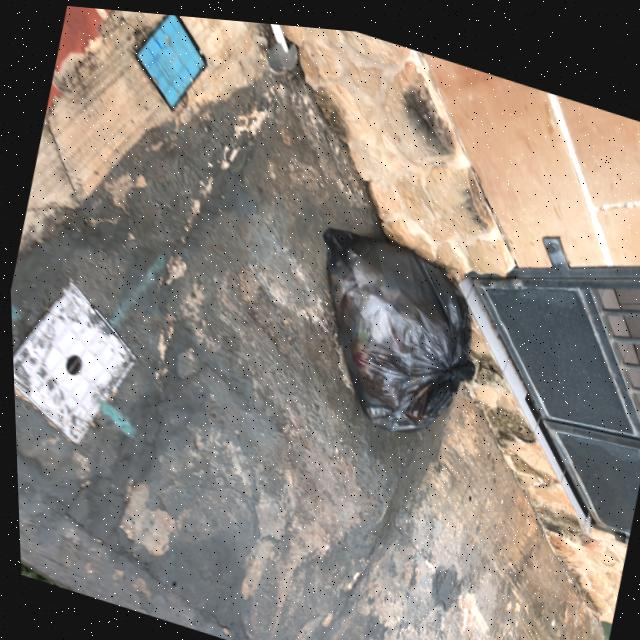Mixed Waste -Black Bag-: (282, 212, 496, 447)
